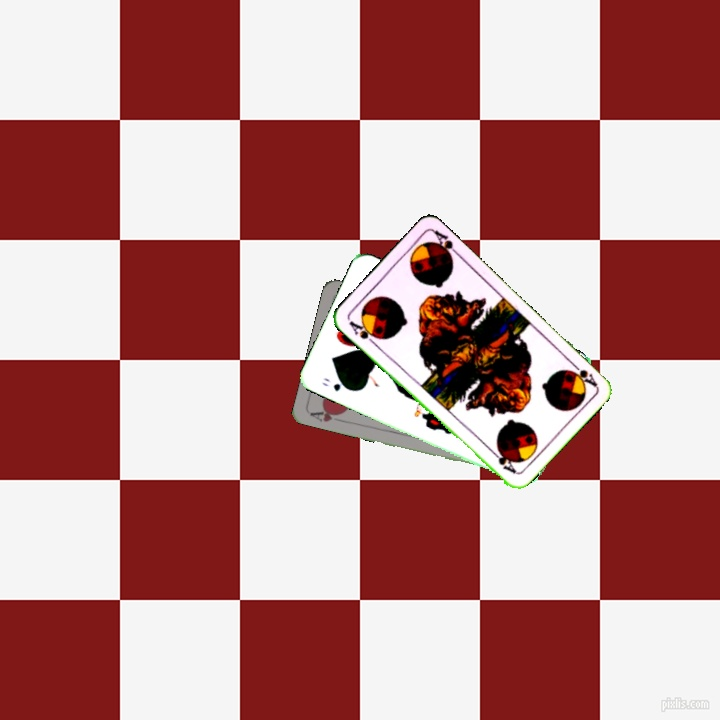GO: (317, 373, 353, 394)
HA: (306, 404, 346, 424)
SA: (563, 357, 600, 390), (345, 317, 382, 348)
